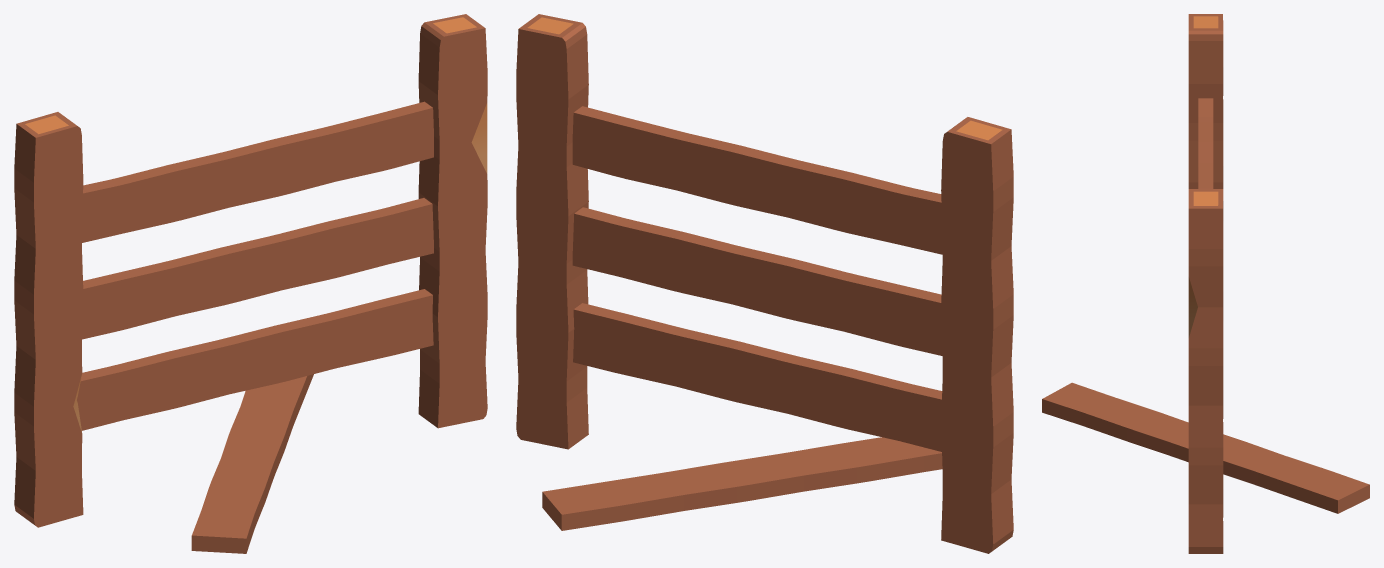
The model's file is Cerca3.fbx.
The picture shows the model from 3 angles, left to right: view 1: azimuth 30°, elevation 25°; view 2: azimuth 150°, elevation 25°; view 3: azimuth 270°, elevation 25°; orthographic projection. The views are drawn at different scales.
Visible parts, largest first — view 1: Cerca3; view 2: Cerca3; view 3: Cerca3.
Part boxes in pixels (x1,y1,x2,y2): Cerca3: (14,14,487,553); Cerca3: (516,14,1013,553); Cerca3: (1042,14,1369,553).
Size of the model in its own units: 1.14 by 0.9448 by 0.8069.
